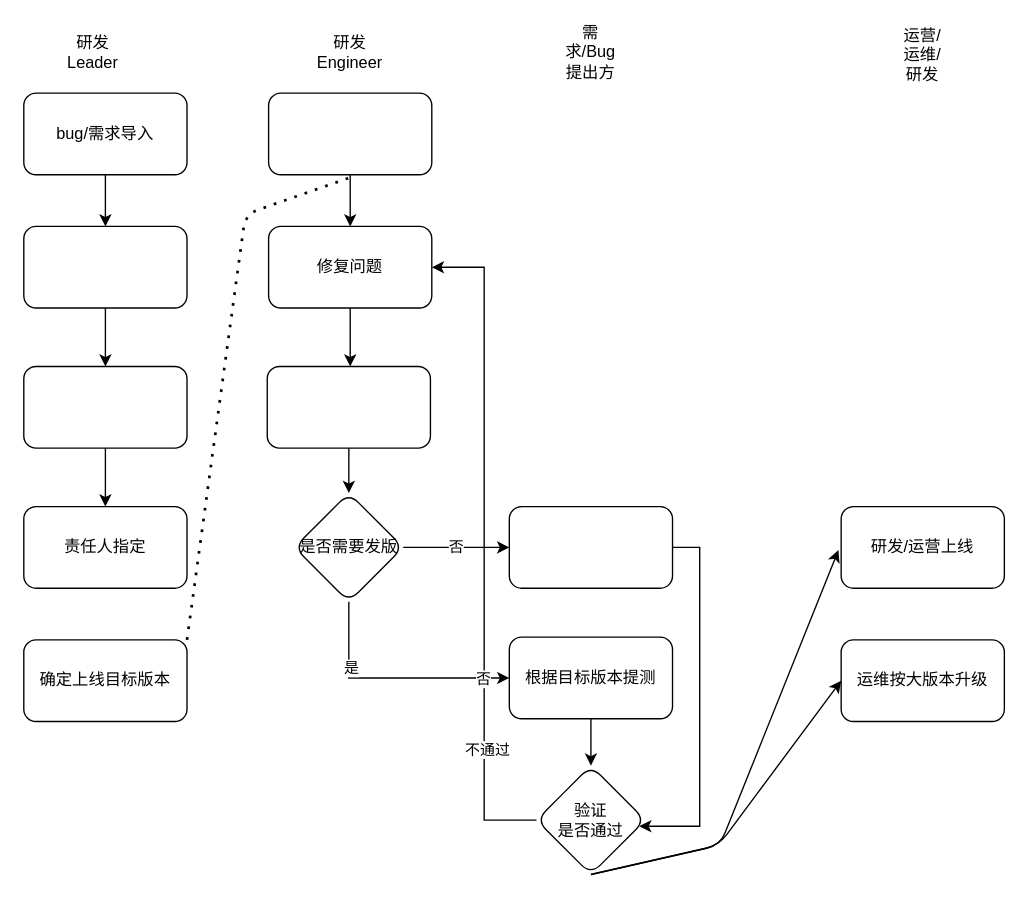
Image size: 1028x910. Some labels were removed from this diagram. The shapes that lost their labels are listed below. From the top down, each one's centre as x and y in pixels, then its label:
At point 349,133: "问题具体定位".
At point 104,266: "问题分析分解".
At point 104,406: "模块拆分".
At point 348,406: "自测".
At point 590,546: "交给需求方验证".
